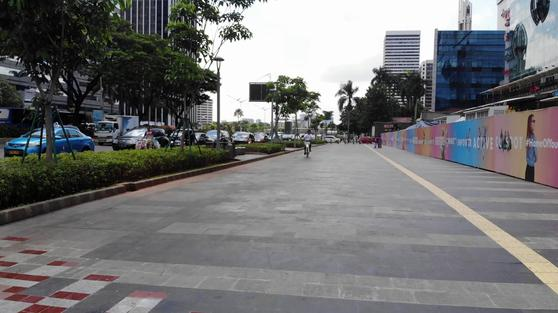bike: (296, 135, 319, 164)
